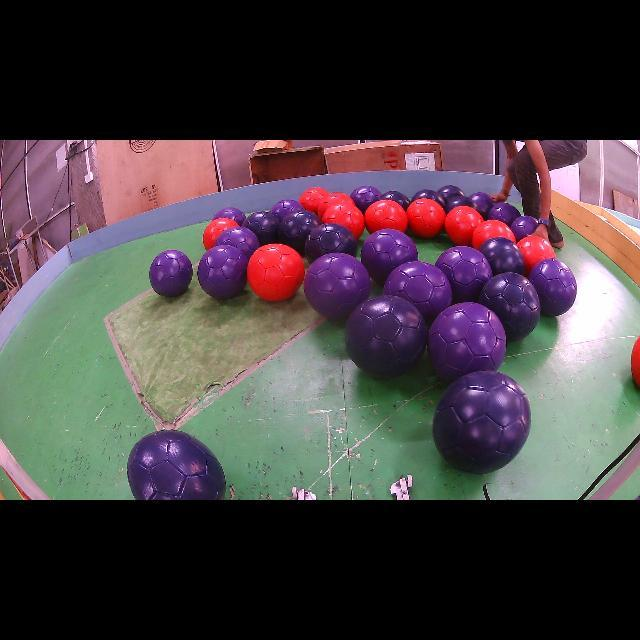B: (432, 371, 531, 474), (128, 430, 226, 500), (345, 295, 426, 379), (479, 272, 540, 341), (305, 224, 358, 262), (279, 209, 321, 255), (479, 236, 525, 276), (242, 211, 280, 246), (411, 189, 445, 208), (380, 191, 410, 210), (445, 195, 474, 214), (438, 185, 465, 201)
P: (428, 302, 506, 382), (304, 252, 371, 319), (384, 261, 452, 322), (435, 246, 492, 304), (360, 229, 418, 285), (198, 245, 248, 299), (529, 259, 576, 316), (150, 250, 192, 296), (214, 226, 260, 260), (350, 185, 381, 214), (488, 202, 521, 226), (510, 215, 539, 241), (270, 199, 304, 221), (469, 192, 494, 220), (212, 208, 246, 226)
R: (248, 244, 305, 301), (518, 235, 556, 278), (322, 202, 365, 239), (406, 199, 446, 238), (445, 206, 484, 246), (365, 200, 408, 234), (472, 220, 516, 249), (202, 218, 239, 250), (318, 192, 355, 219), (299, 188, 329, 214), (631, 336, 640, 388)
